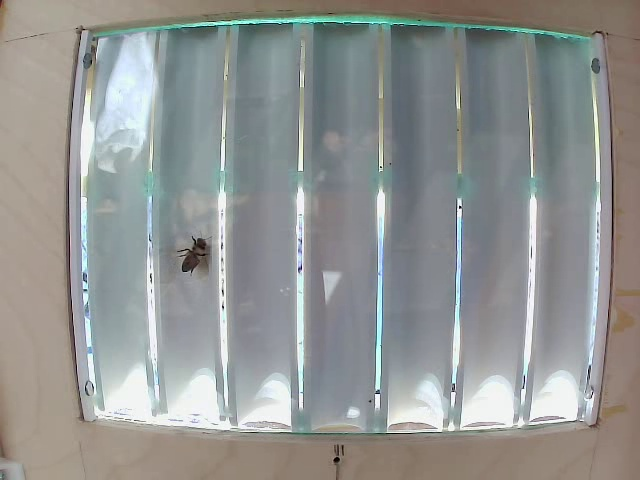bee: (169, 234, 219, 277)
